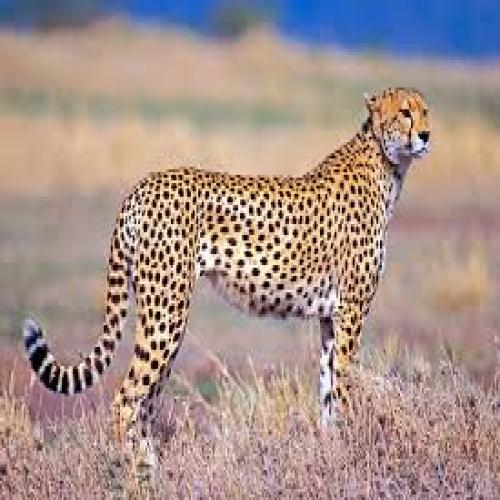cheetah-endangered: (21, 86, 437, 432)
